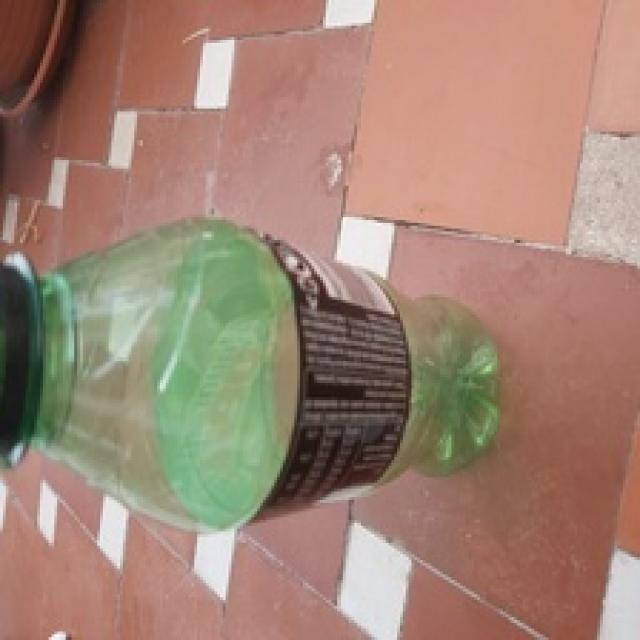Plastic: (0, 210, 504, 530)
